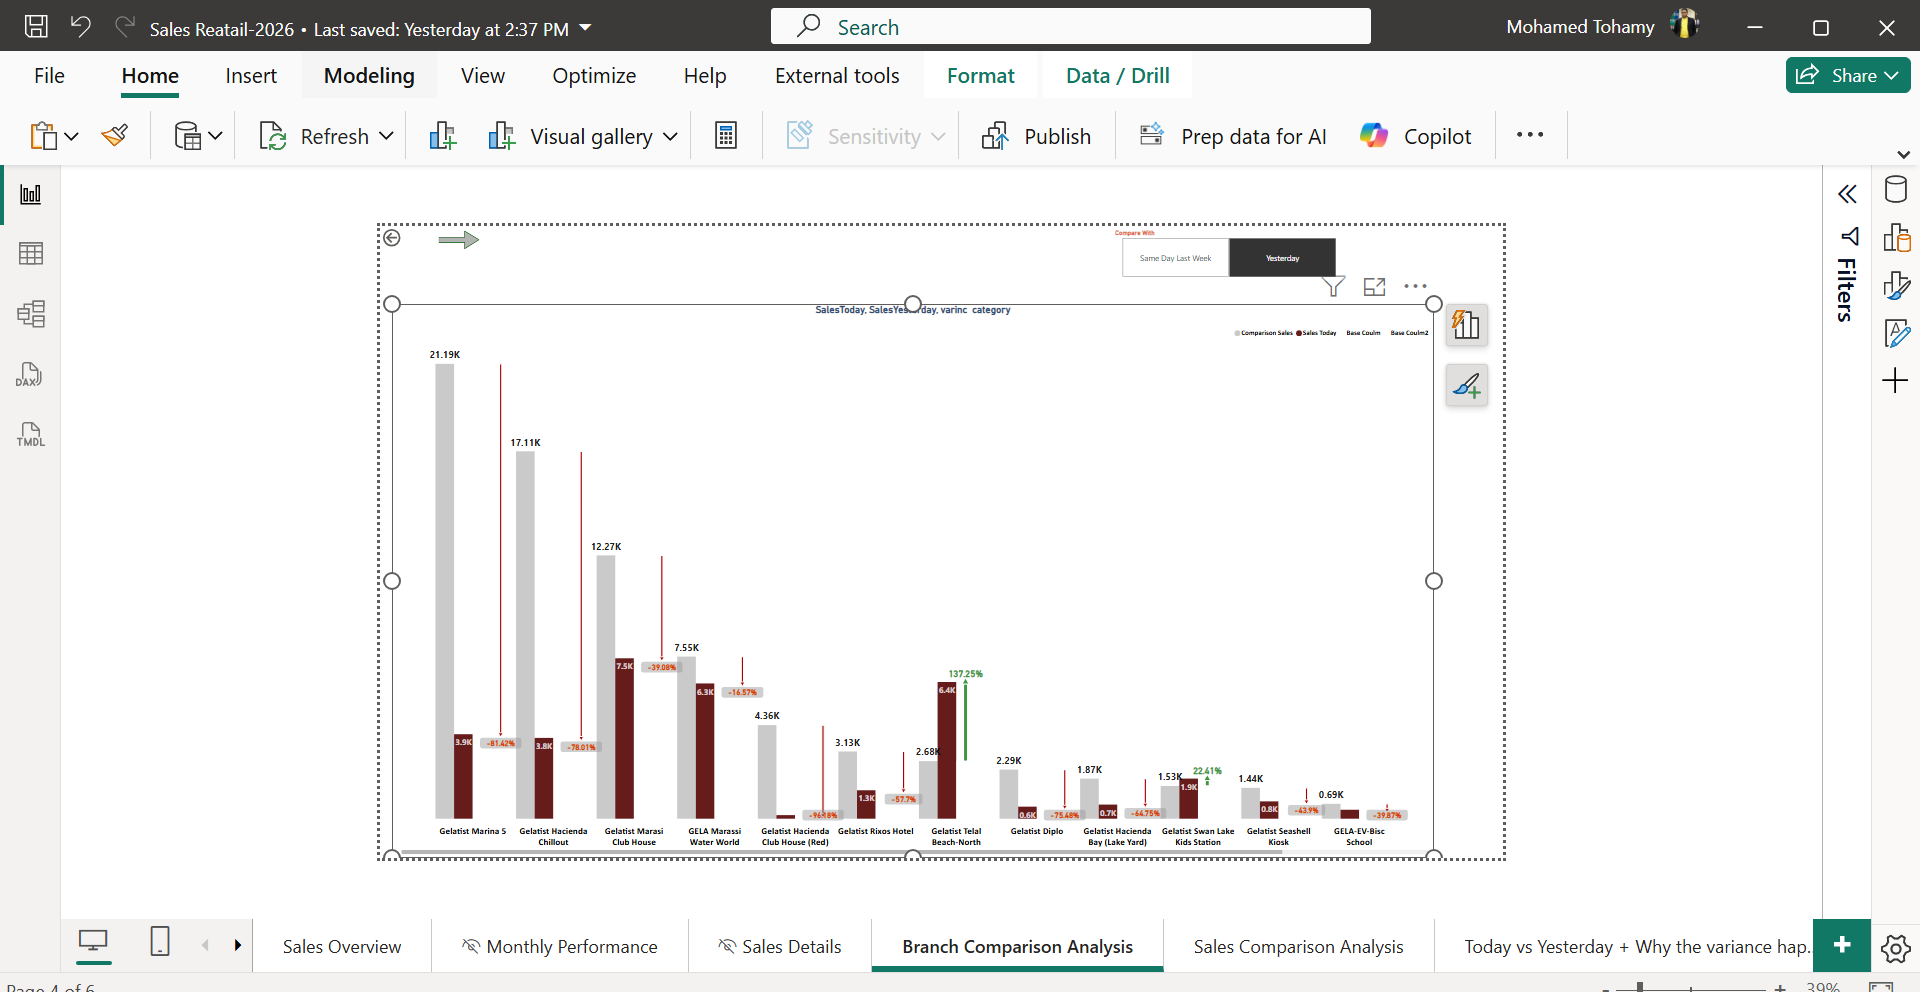

The dashboard page shown, as its layout file describes it:
{"tool":"powerbi","page":{"name":"Branch Comparison Analysis","canvas":[1920,1080],"ordinal":3},"visuals":[{"type":"clusteredColumnChart","title":"SalesToday, SalesYesterday, varinc  category","fields":{"Category":["Retail_Sales-2026.Chanal Name"],"Y":["Measure.Comparison Sales","Measure.Sales Today","Measure.Base Coulm2","Measure.Base Coulm21"]},"box":[21.5,177.3,1590.4,822.1],"z":0},{"type":"actionButton","box":[0,0,100,40],"z":1000},{"type":"slicer","fields":{"Values":["Comparison Type.Compare With"]},"box":[1242.6,0,413.8,93.6],"z":2000},{"type":"actionButton","box":[79.8,40.4,118.1,34],"z":3000},{"type":"shape","box":[100,8.5,70.2,31.9],"z":4000}]}

Visuals, with their boxes on the page's 1920x1080 design canvas (x1, y1, x2, y2). These are canvas units, not pixel positions in the 1920x992 screenshot, which may show the page scaled, cropped or inside an application window:
"SalesToday, SalesYesterday, varinc  category" clusteredColumnChart: locate(22, 177, 1612, 999)
actionButton: locate(0, 0, 100, 40)
slicer - Comparison Type.Compare With: locate(1243, 0, 1656, 94)
actionButton: locate(80, 40, 198, 74)
shape: locate(100, 8, 170, 40)
